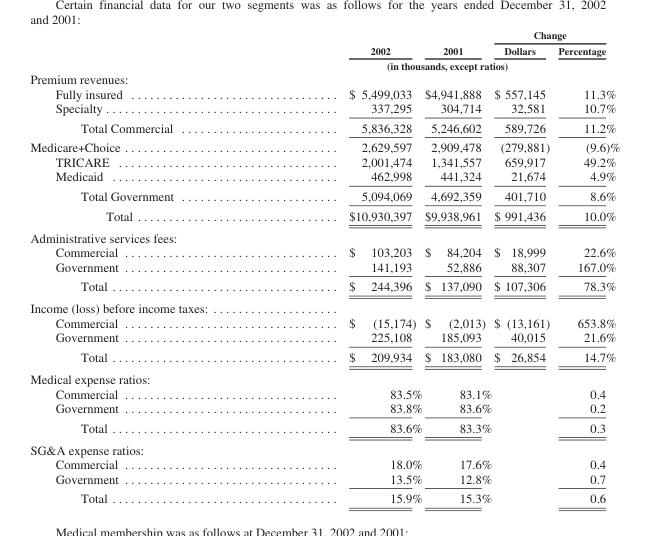table: (29, 29, 619, 505)
table column: (29, 29, 260, 505), (260, 29, 422, 505), (422, 29, 492, 505), (553, 29, 619, 505), (492, 29, 553, 505)
table column header: (29, 29, 619, 71)
table projected row header: (29, 367, 619, 386), (29, 226, 619, 244), (29, 297, 619, 315), (29, 438, 619, 456), (29, 71, 619, 86)
table row: (29, 205, 619, 226), (29, 276, 619, 297), (29, 346, 619, 367), (29, 417, 619, 438), (29, 117, 619, 137), (29, 185, 619, 205), (29, 367, 619, 386), (29, 226, 619, 244), (29, 297, 619, 315), (29, 438, 619, 456), (29, 100, 619, 117), (29, 137, 619, 154), (29, 168, 619, 185), (29, 259, 619, 276), (29, 329, 619, 346), (29, 400, 619, 417), (29, 471, 619, 488), (29, 488, 619, 505), (29, 42, 619, 57), (29, 71, 619, 86), (29, 244, 619, 259), (29, 456, 619, 471), (29, 57, 619, 71), (29, 86, 619, 100), (29, 154, 619, 168), (29, 315, 619, 329), (29, 386, 619, 400), (29, 29, 619, 42)
table spanning cell: (260, 29, 422, 57), (260, 57, 553, 71), (422, 29, 492, 57), (553, 42, 619, 71), (492, 29, 619, 42)
